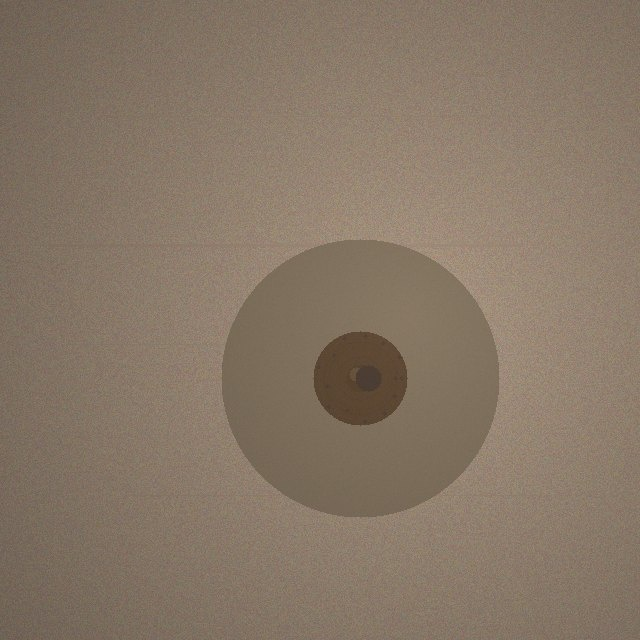cold_weld: (221, 239, 499, 517)
